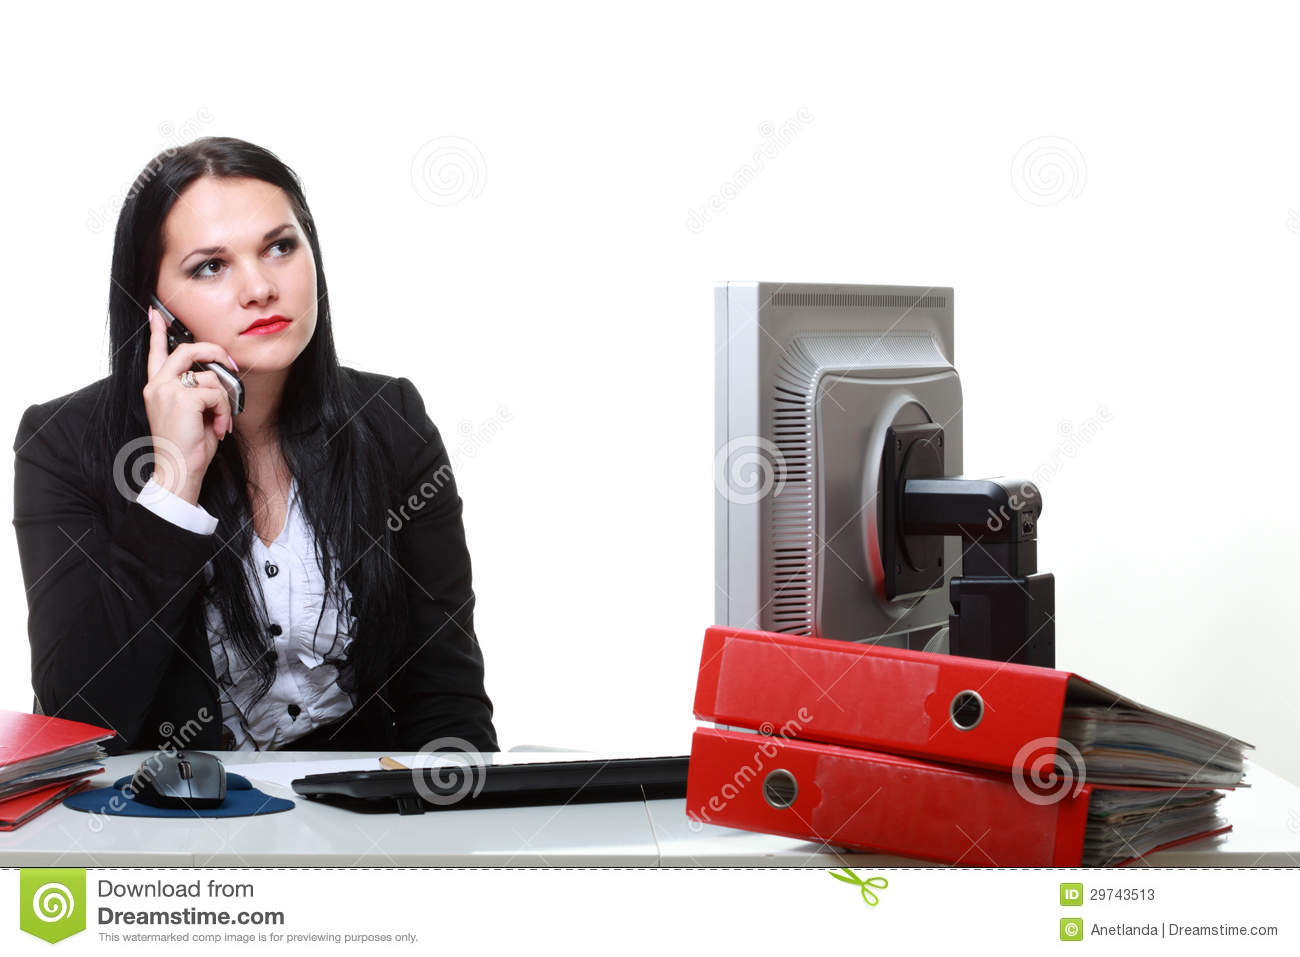phone: (149, 301, 254, 418)
talk: (140, 210, 315, 490)
